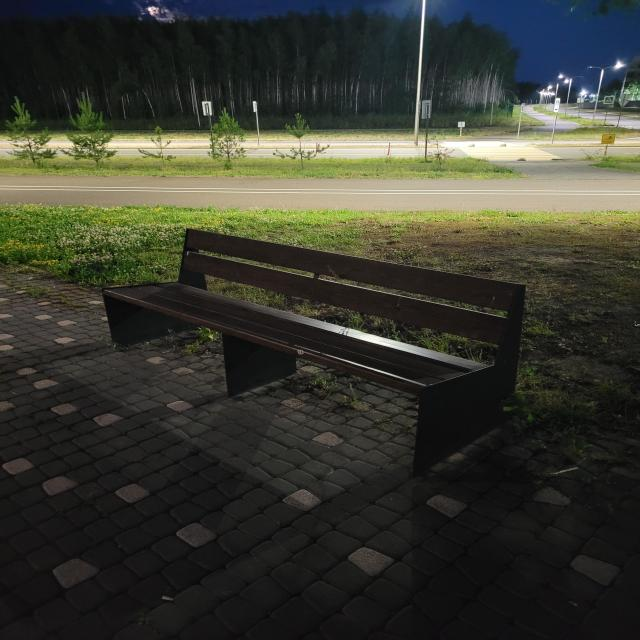Bench: (102, 229, 526, 475)
